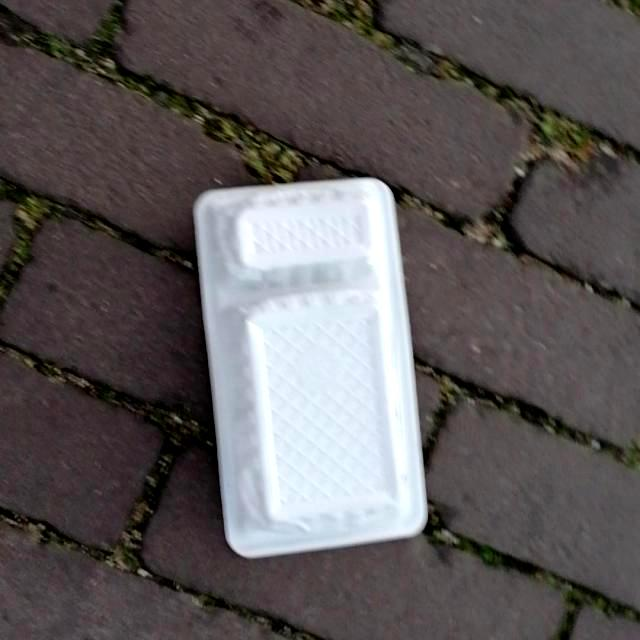Plastic: (188, 173, 432, 562)
